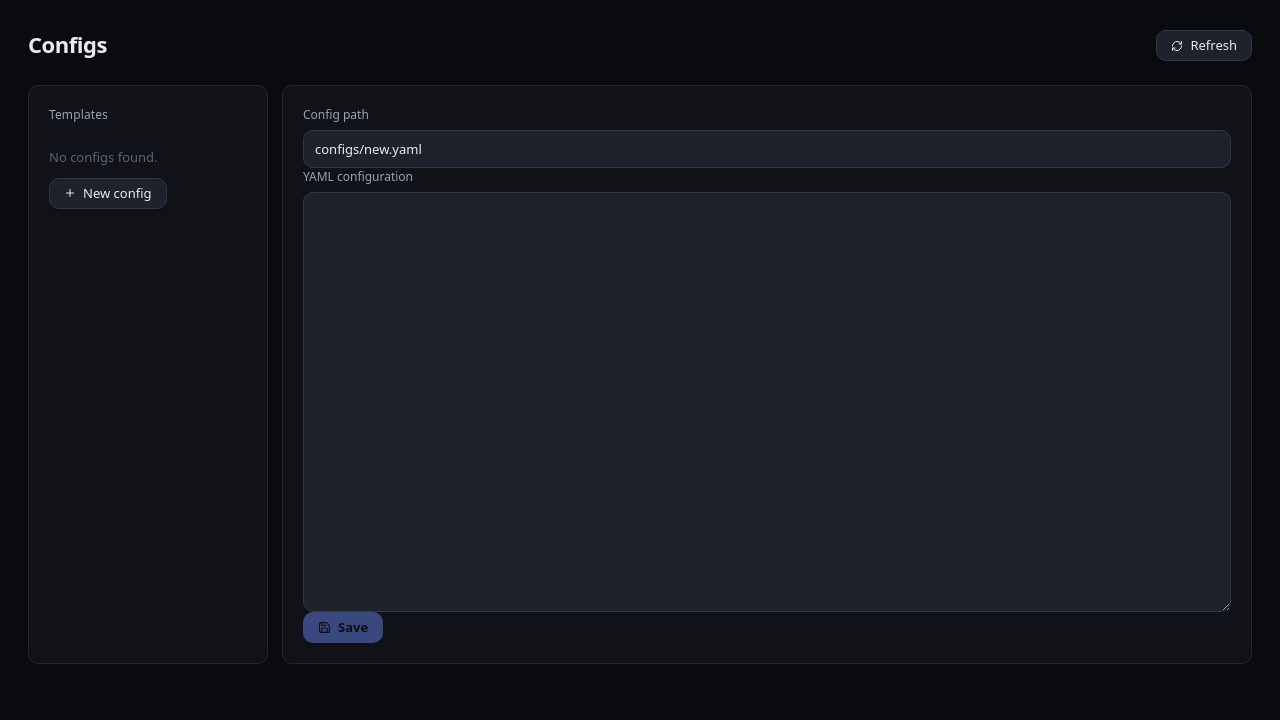
Test: configuration and data failure paths › preserves an existing config draft when raw loading returns HTTP 400
Click the button "New config": coordinates (108, 193) [49,178,166,208]
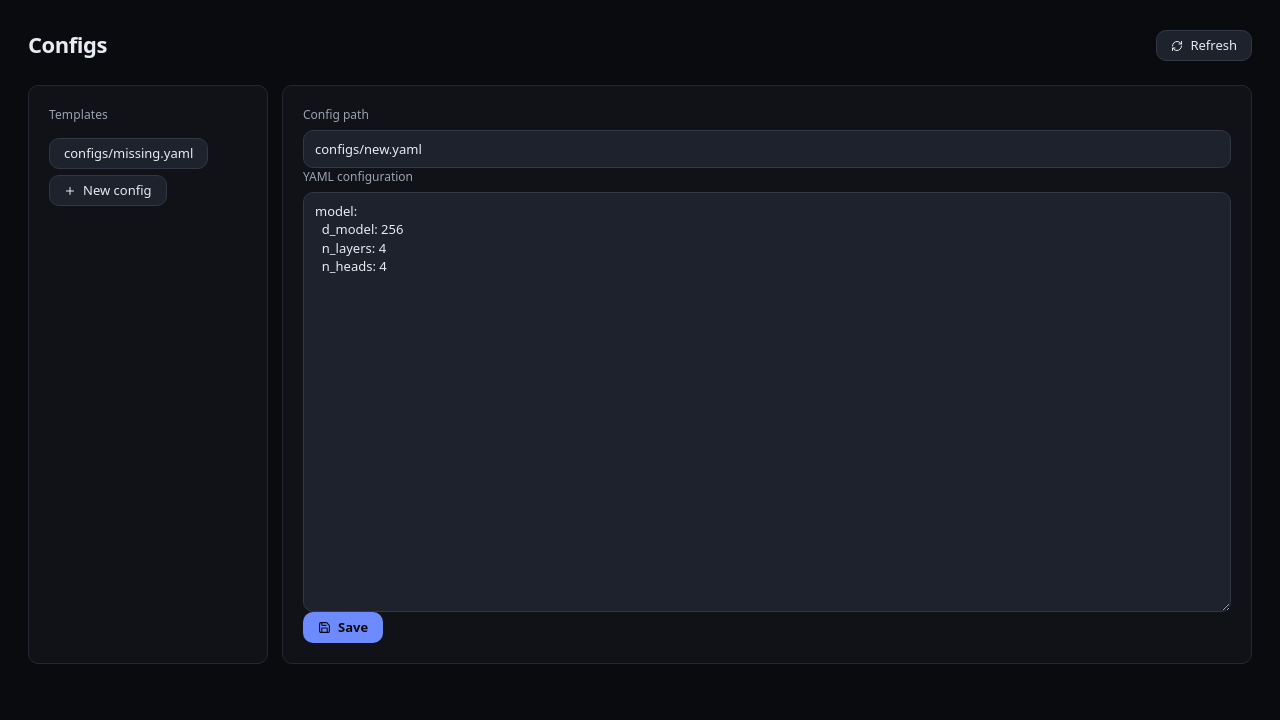
Click the button "configs/missing.yaml": coordinates (129, 154) [49,138,208,169]
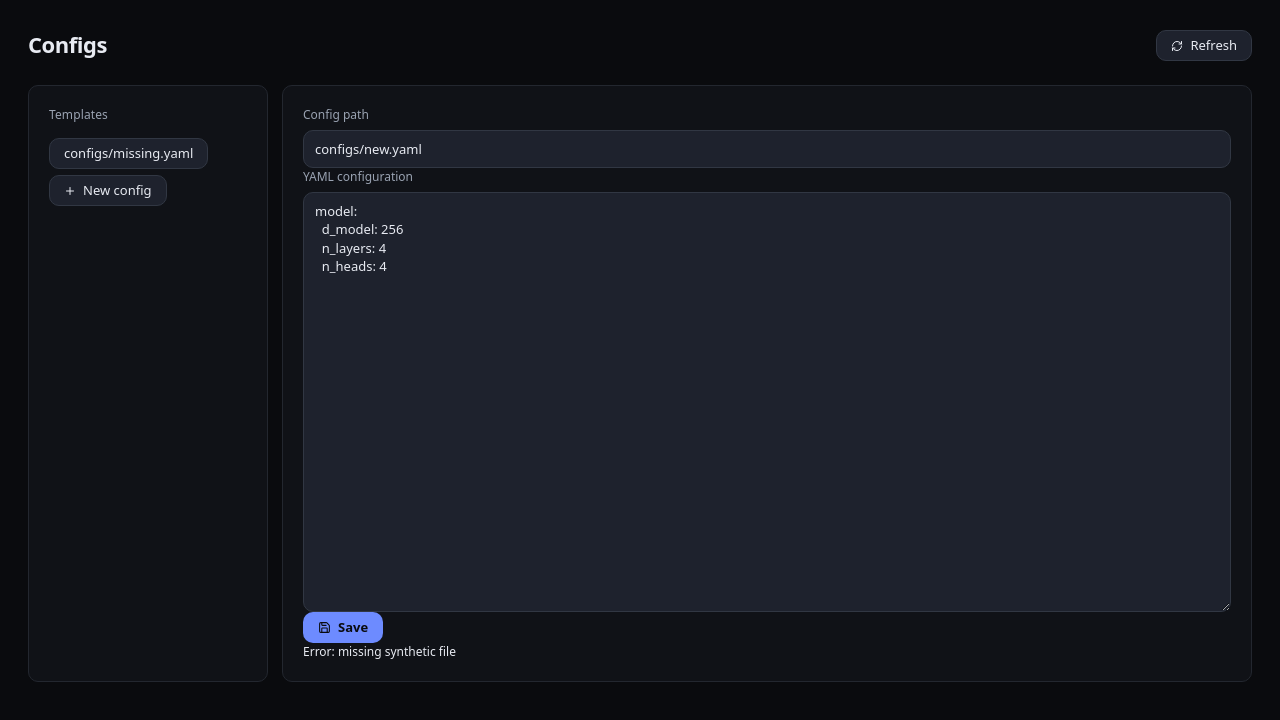
Now the text "Error: missing synthetic file" is shown, box [303,643,456,660]
